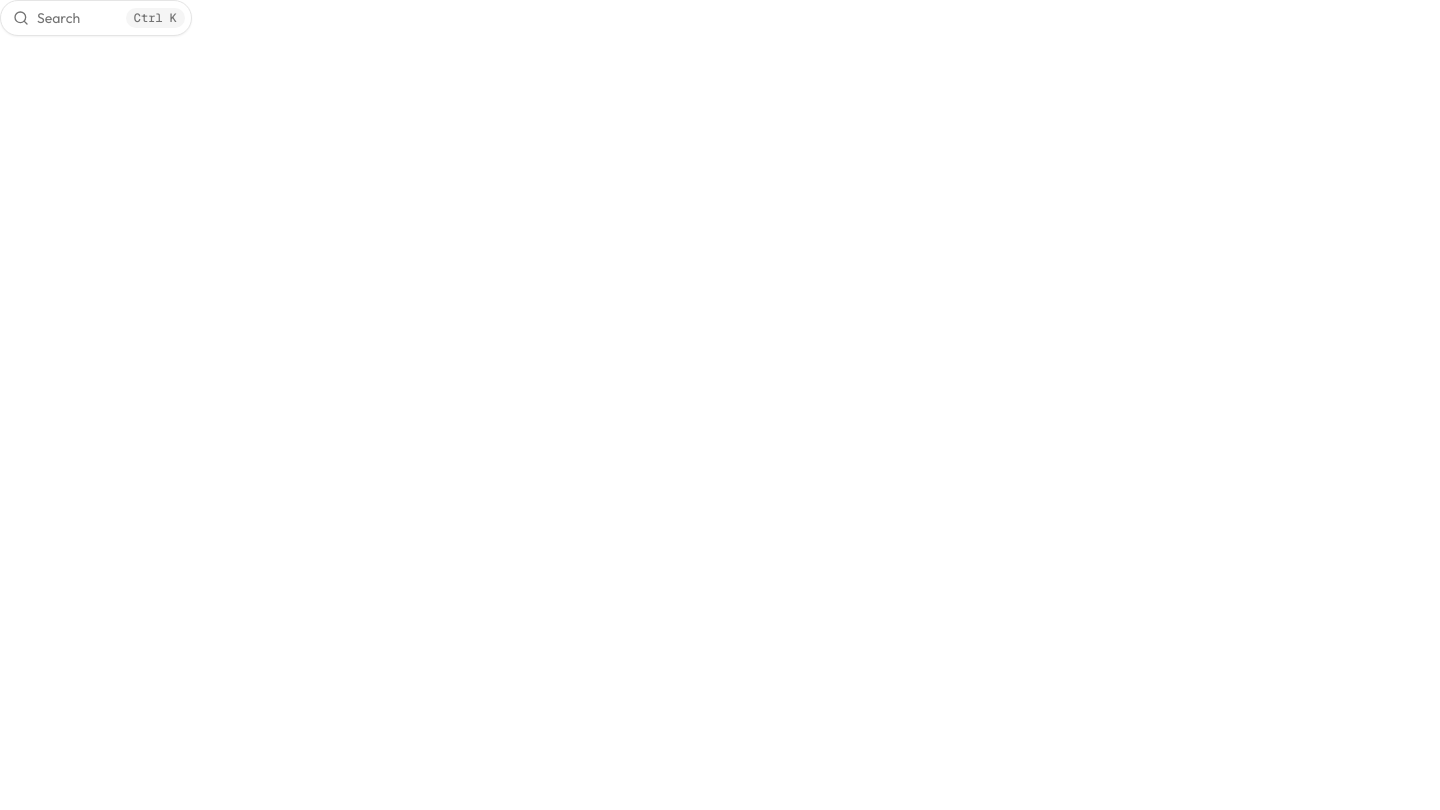
the command menu › finds a page by its name and goes there on Enter, closing the menu
Press k
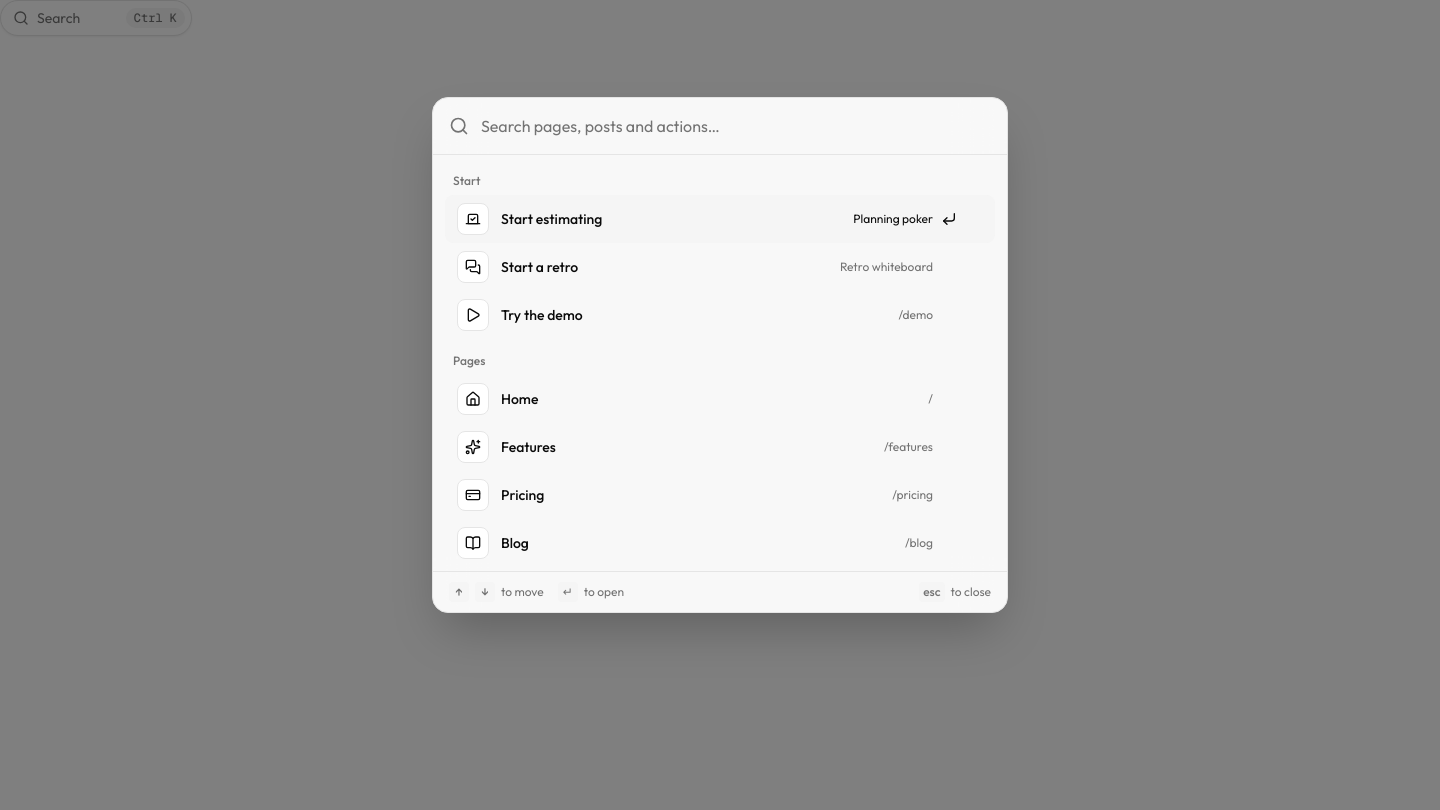
Now the dialog is shown, box [432,97,1008,613]
Type "pric" into the dropdown with placeholder "Search pages, posts and actions…".
click(736, 126); type("pric")  # box [481,98,991,154]
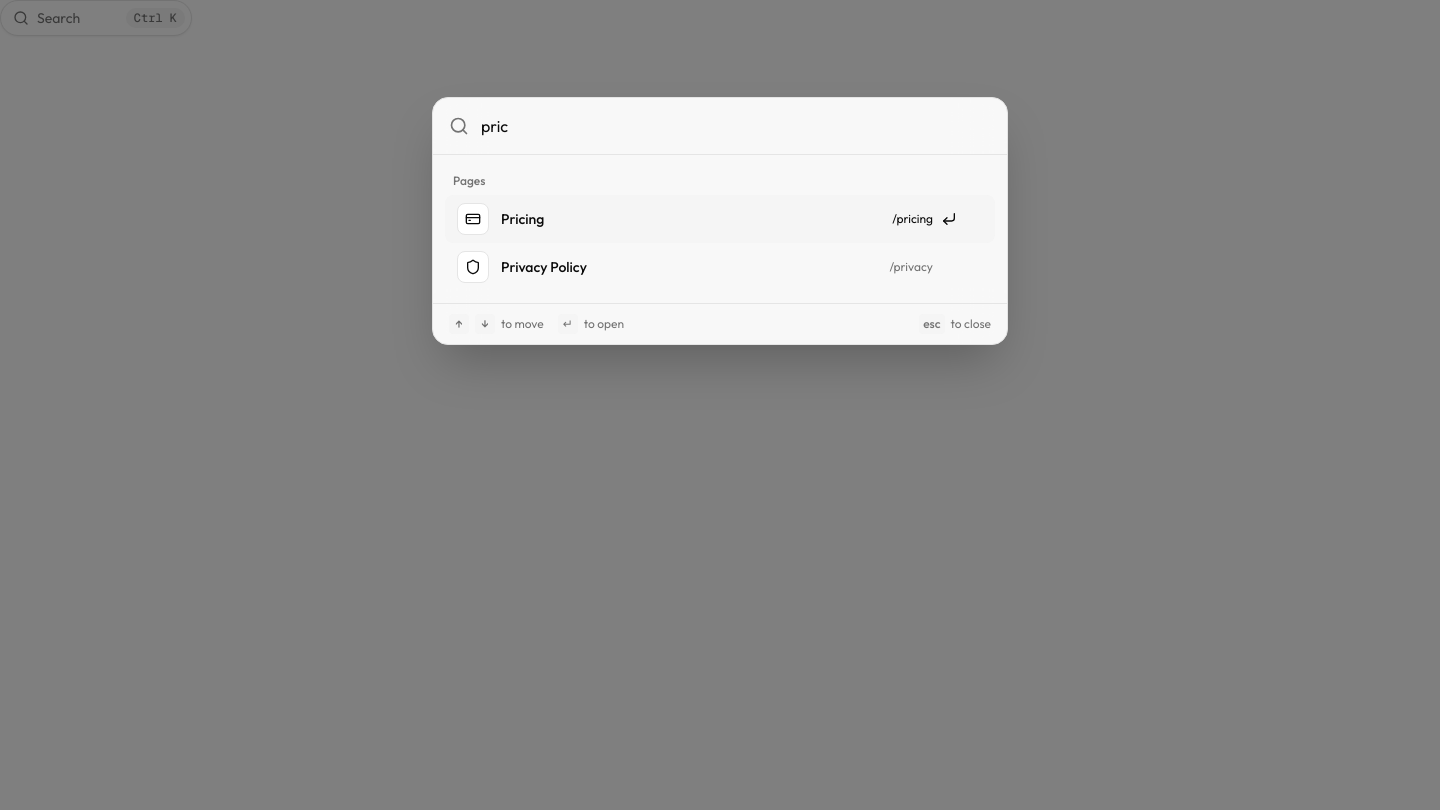
Now the option "Pricing /pricing" is shown, box [445,195,995,243]
Press Enter in the dropdown with placeholder "Search pages, posts and actions…", box [481,98,991,154]
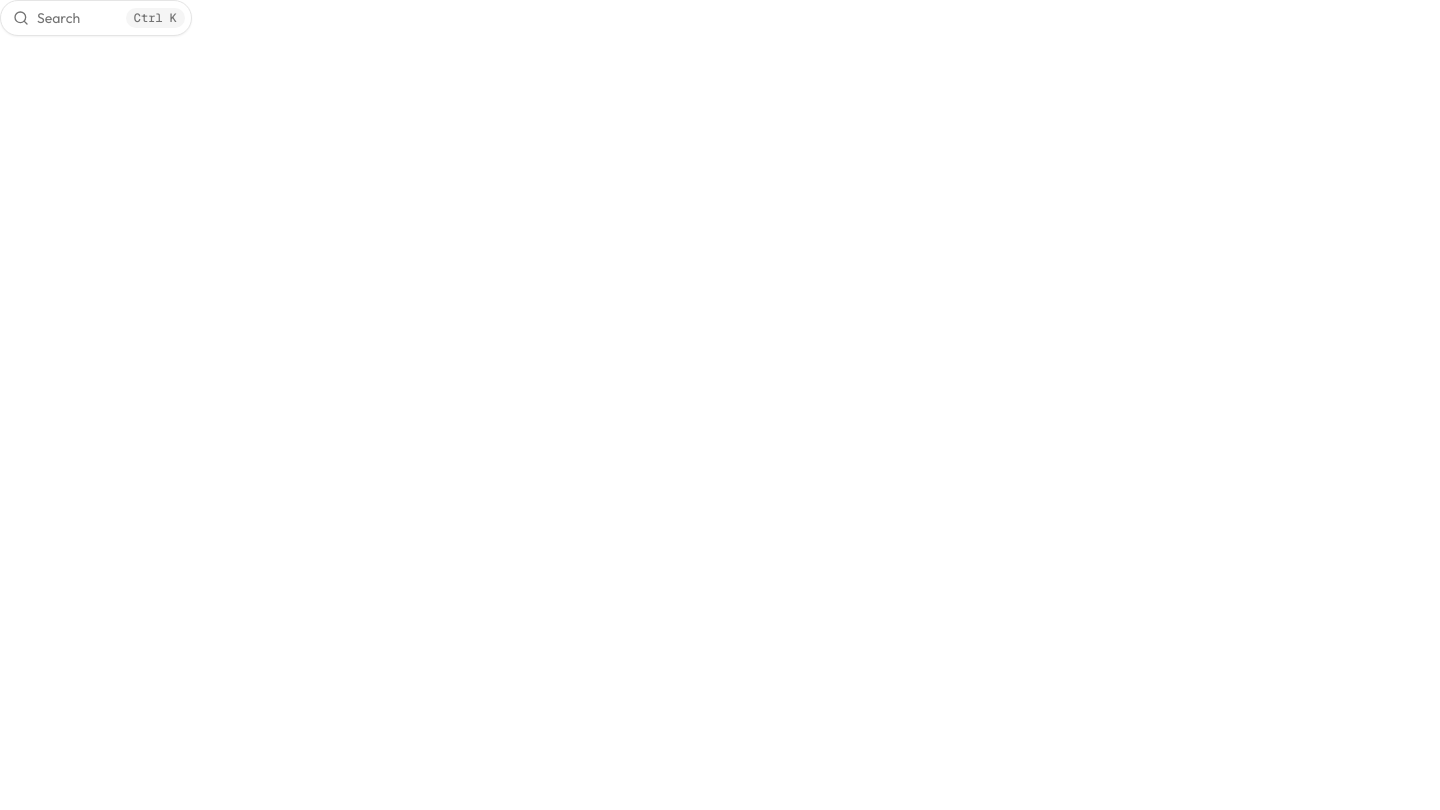
Now the dialog is gone
